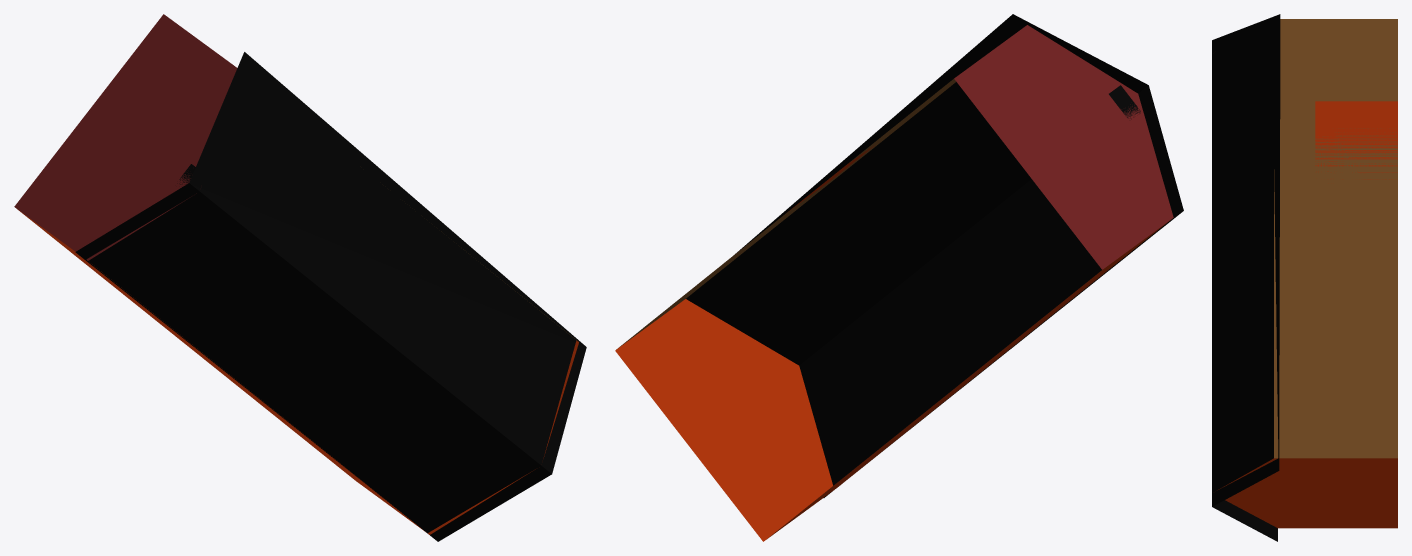
Rendered from objs2_54.obj.
3 renders of one model, left to right at view 1: azimuth 30°, elevation 25°; view 2: azimuth 150°, elevation 25°; view 3: azimuth 270°, elevation 25°, orthographic. The views are drawn at different scales.
Visible parts, largest first — view 1: objs2_54; view 2: objs2_54; view 3: objs2_54.
Boxes of the visible parts, bbox=[...] form: objs2_54: bbox=[14, 14, 586, 541]; objs2_54: bbox=[615, 14, 1183, 541]; objs2_54: bbox=[1212, 14, 1397, 541].
Size of the model in its own units: 0.384 by 0.384 by 0.144.
